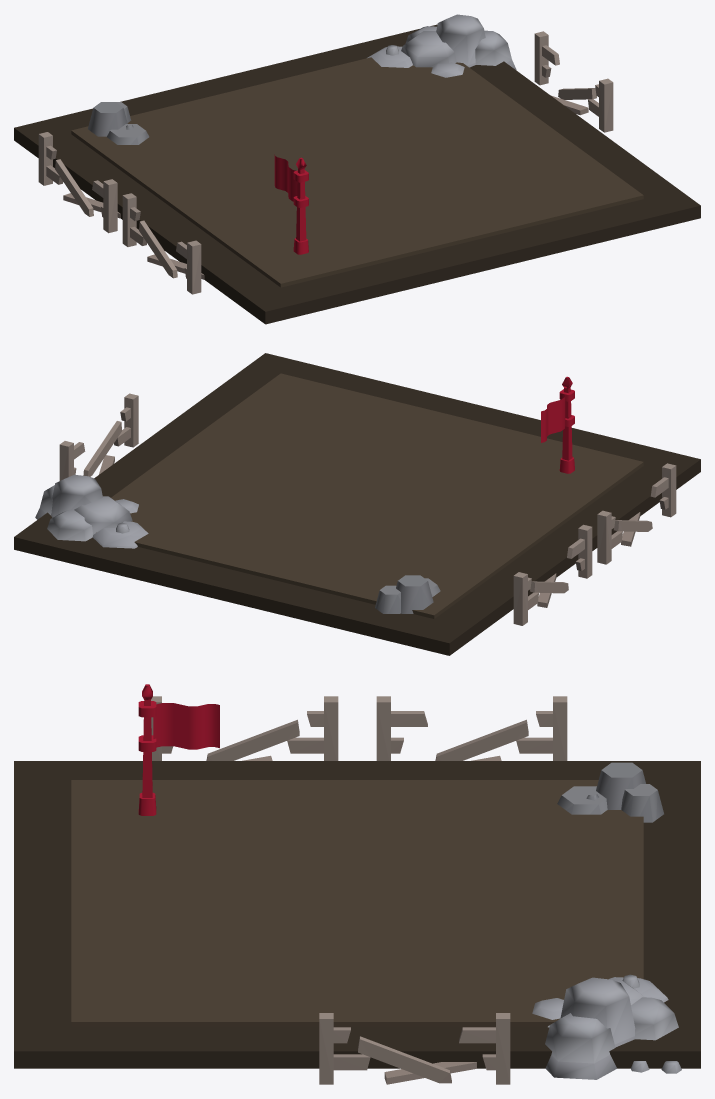
The model's file is outpost_plot.glb.
3 views of the same model, one above another, from view 1: azimuth 30°, elevation 25°; view 2: azimuth 150°, elevation 25°; view 3: azimuth 270°, elevation 25° (orthographic). The views are drawn at different scales.
Visible parts, largest first — view 1: outpost_plot; view 2: outpost_plot; view 3: outpost_plot.
Part boxes in pixels (left/top/right/bottom): outpost_plot: left=14, top=14, right=700, bottom=324; outpost_plot: left=14, top=353, right=700, bottom=655; outpost_plot: left=14, top=684, right=700, bottom=1084.
Size of the model in its own units: 7.9 by 1.71 by 7.11.
